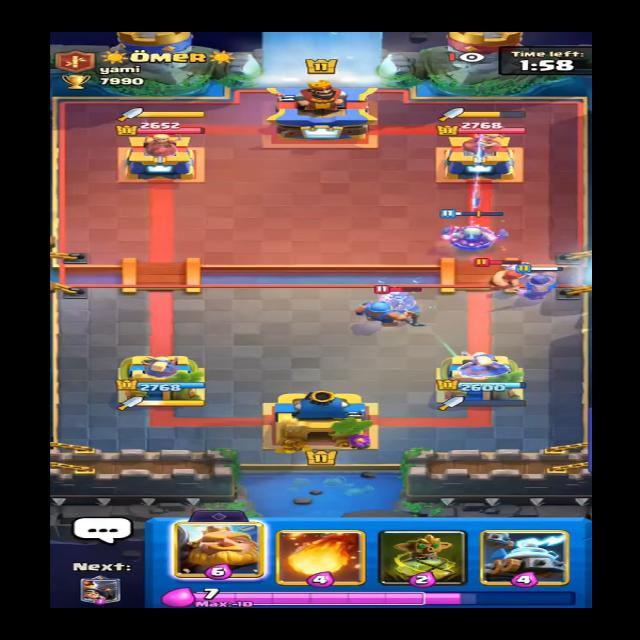lumberjack: (476, 258, 538, 293)
monk: (368, 283, 423, 318)
monk-ability: (368, 283, 419, 320)
